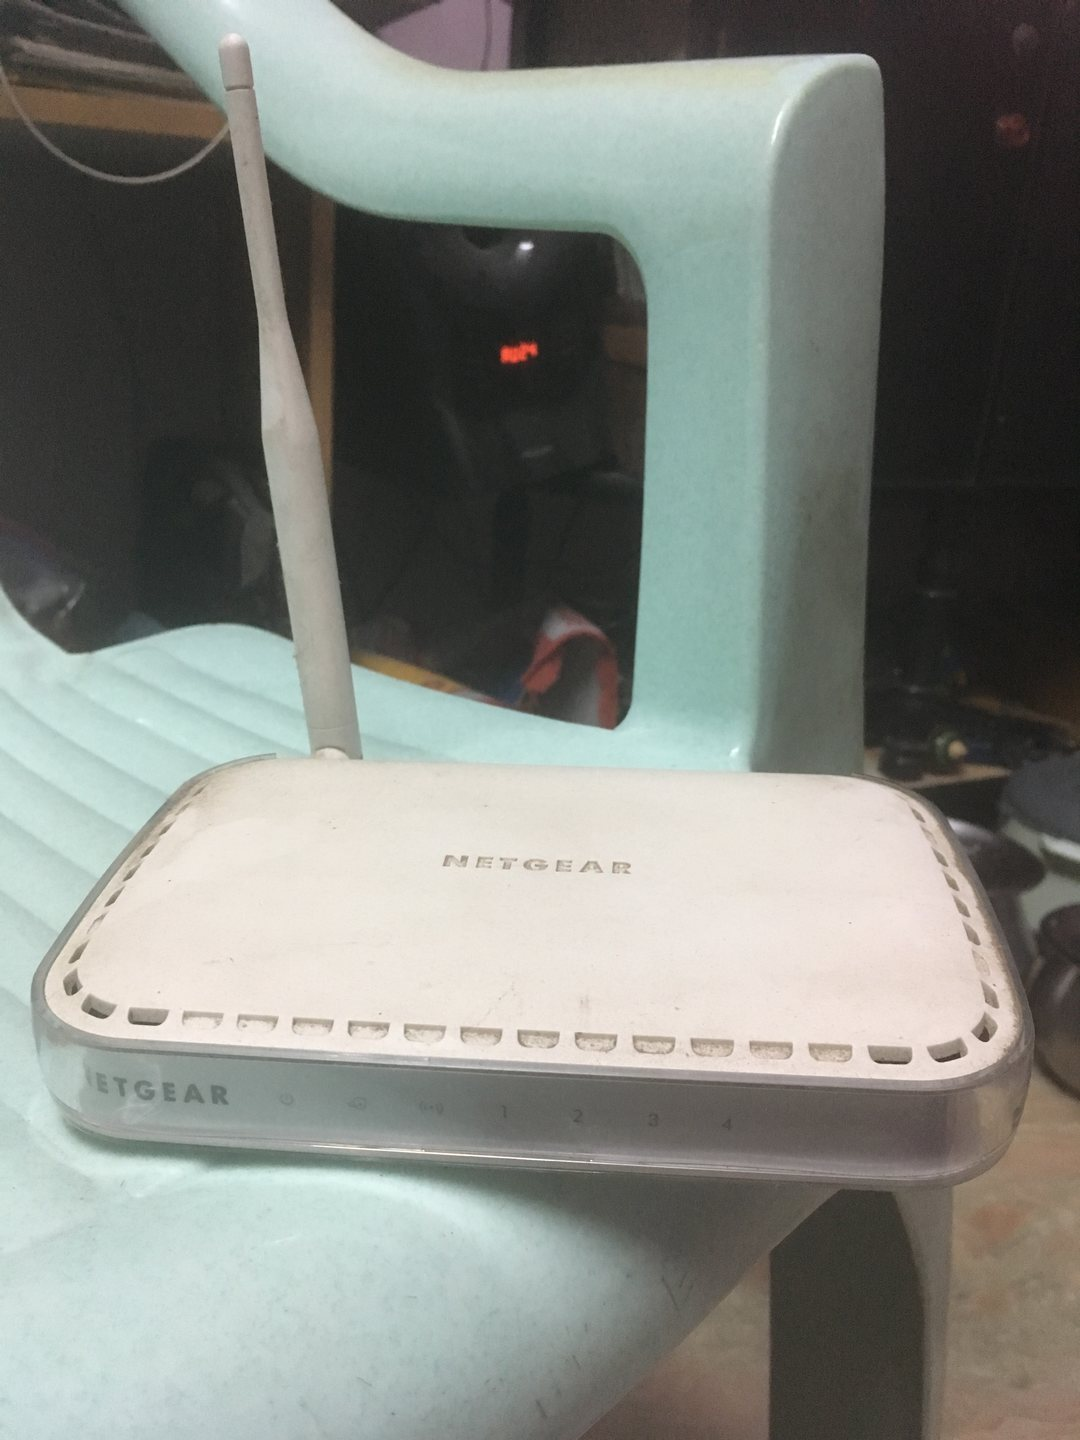NETGEAR: (73, 1059, 239, 1120)
modem: (28, 1006, 1049, 1197)
